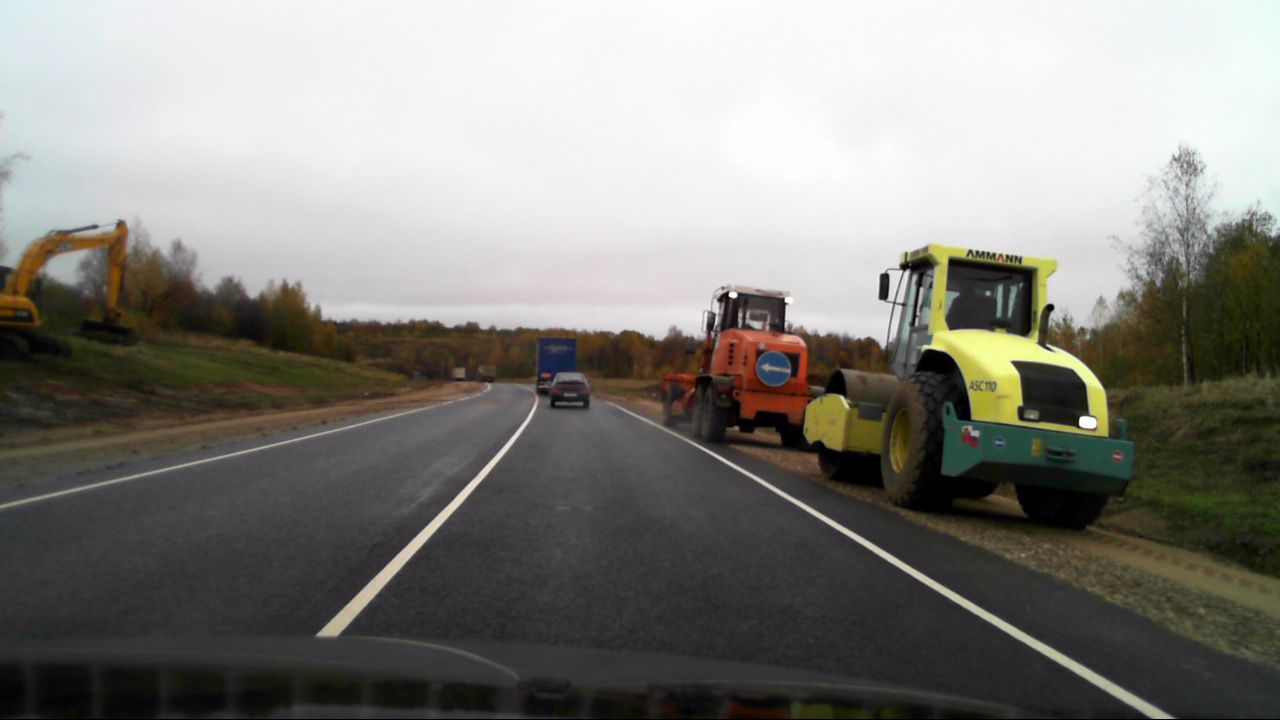Turn Left: (756, 351, 790, 386)
